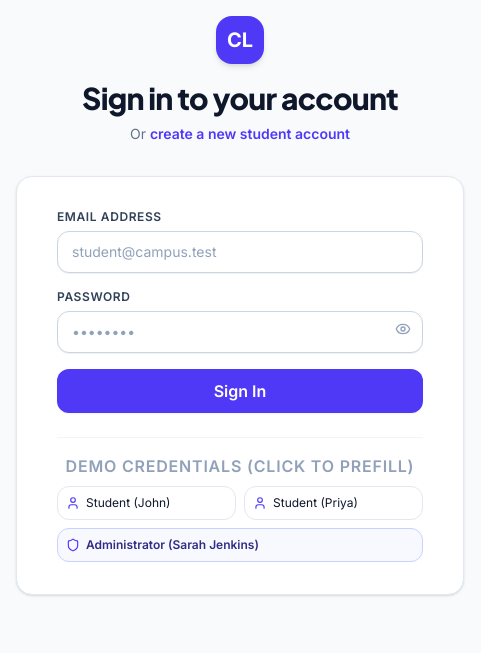
Login Page › validates email format and password length on submit
The width and height of the screenshot is (481, 653).
Click the button "Sign In": (240,391) left=57, top=369, right=423, bottom=413
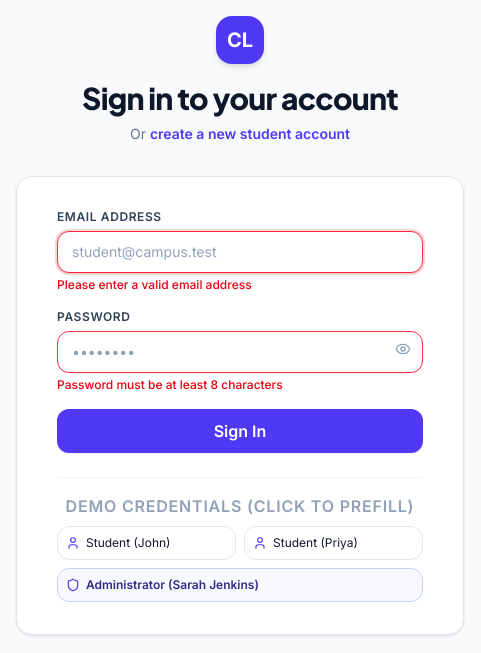
Check: the text "Please enter a valid email address" is shown, box left=57, top=277, right=252, bottom=292
Check: the text "Password must be at least 8 characters" is shown, box left=57, top=377, right=283, bottom=392
